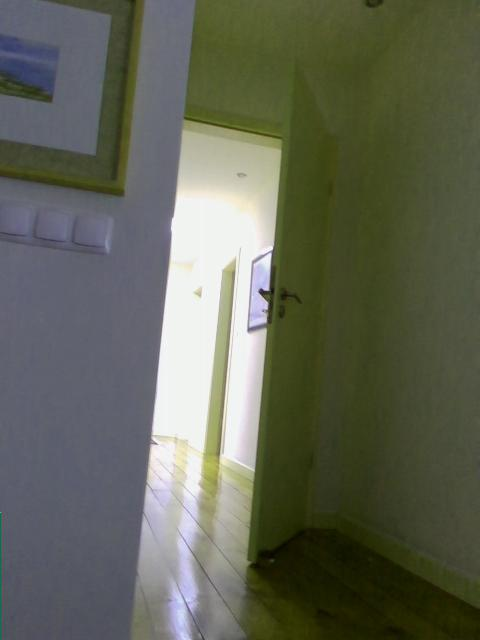semi_door: (142, 46, 344, 566)
